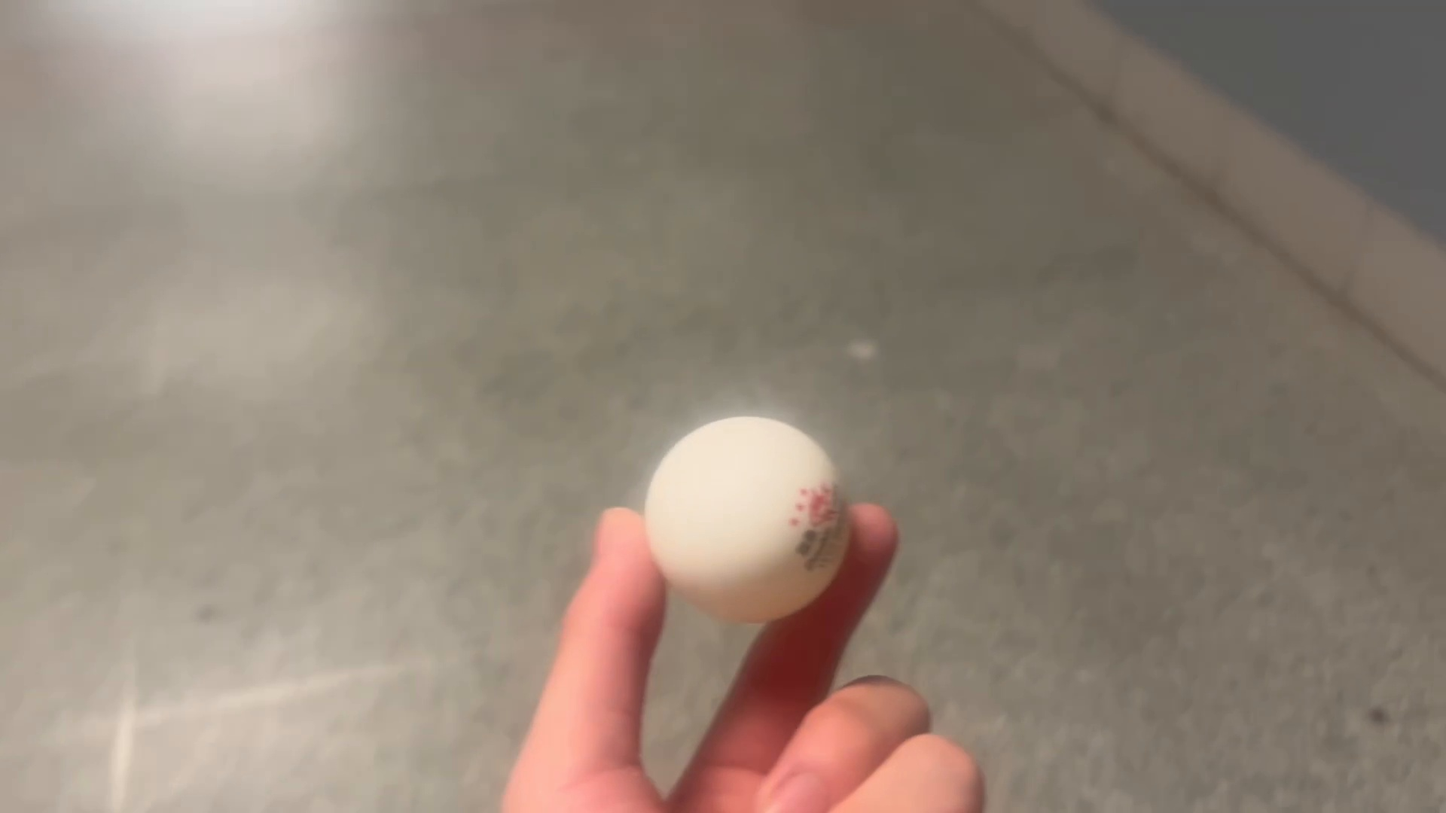Ball: (642, 425, 855, 615)
